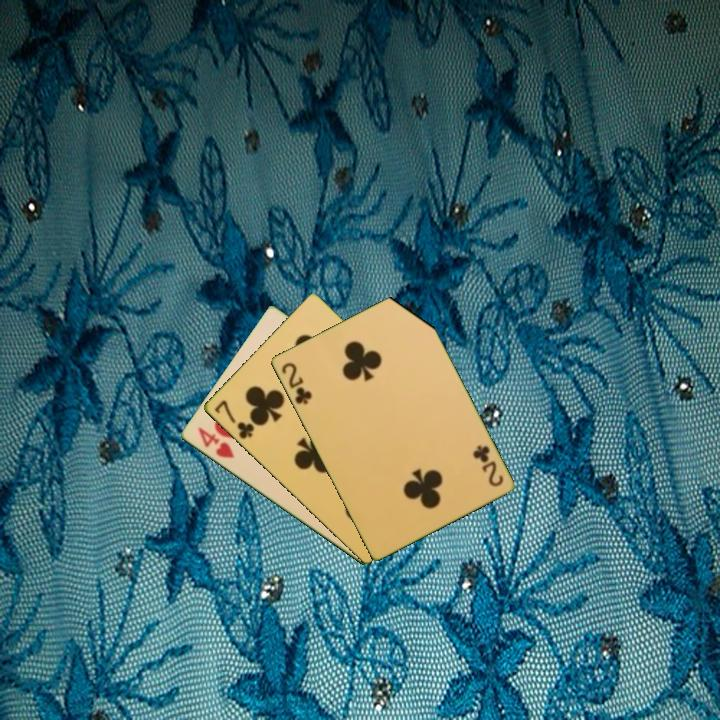2c: (278, 359, 315, 407), (469, 441, 506, 489)
4h: (194, 424, 237, 461)
7c: (210, 396, 257, 442)
